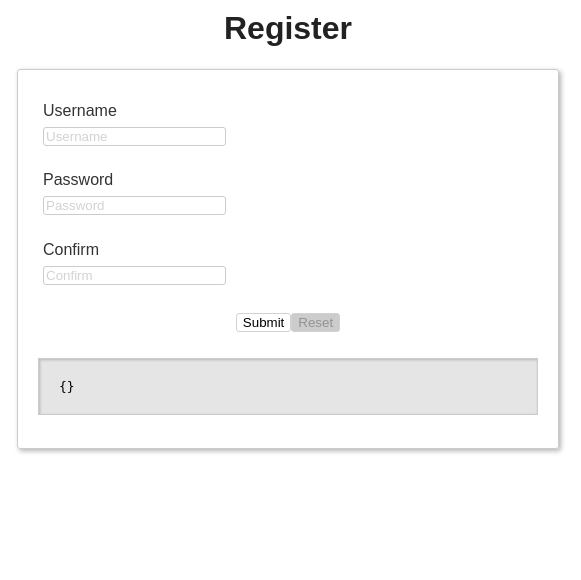
Scenario: Registration form › should show errors if password and confirmation fields don't match
Type "Foobar" into the password field labelled "Password". click: [134, 206]
box: 43,196 -> 226,215
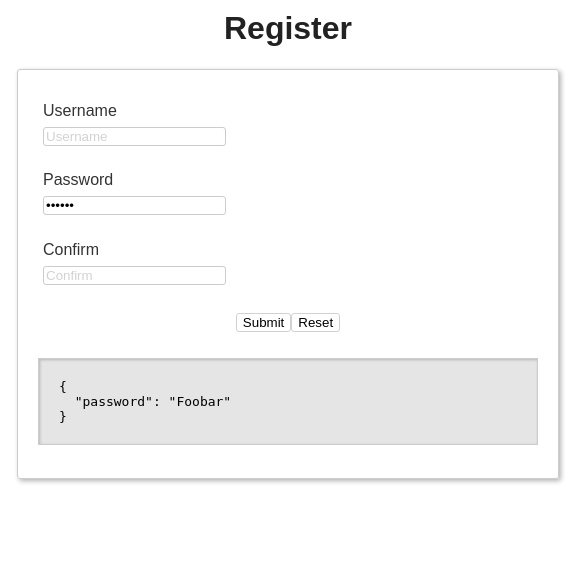
Type "Barfoo" into the password field labelled "Confirm". click: [134, 275]
box: 43,266 -> 226,284
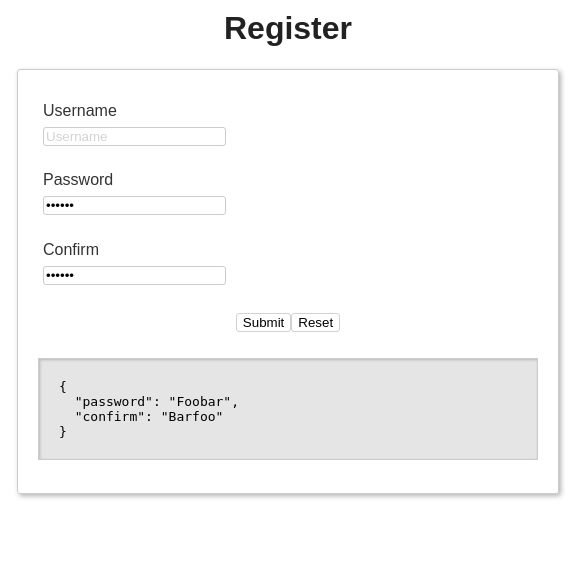
Click the button "Submit". click: [264, 322]
box: 236,313 -> 291,332
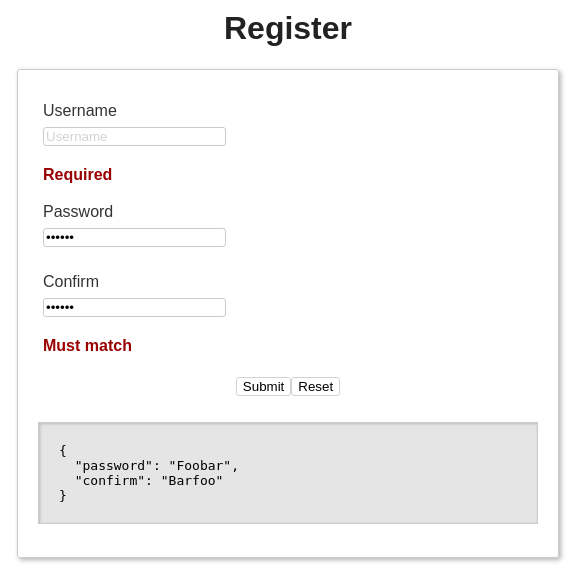
Now the text with class "confirm-error" reads "Must match", box 43,337 -> 132,354
